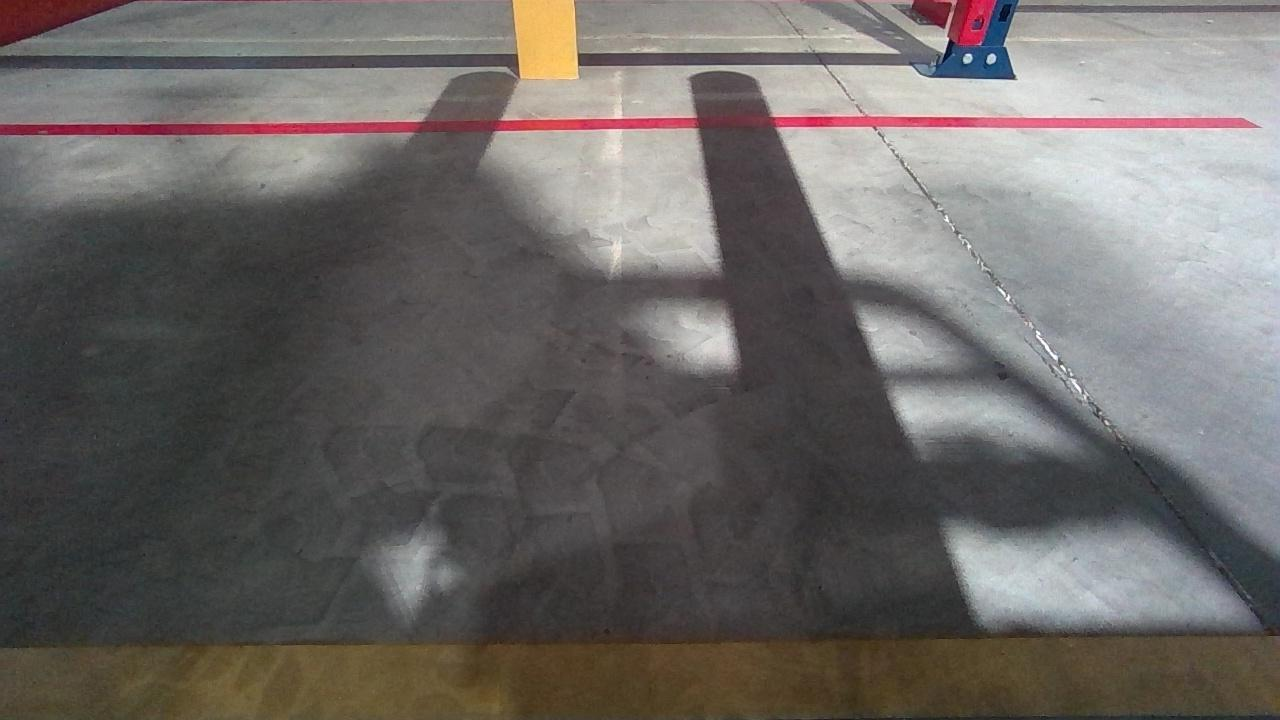orange_strip: (512, 0, 577, 78)
red_line: (2, 116, 1253, 135)
yellow_line: (0, 639, 1280, 719)
